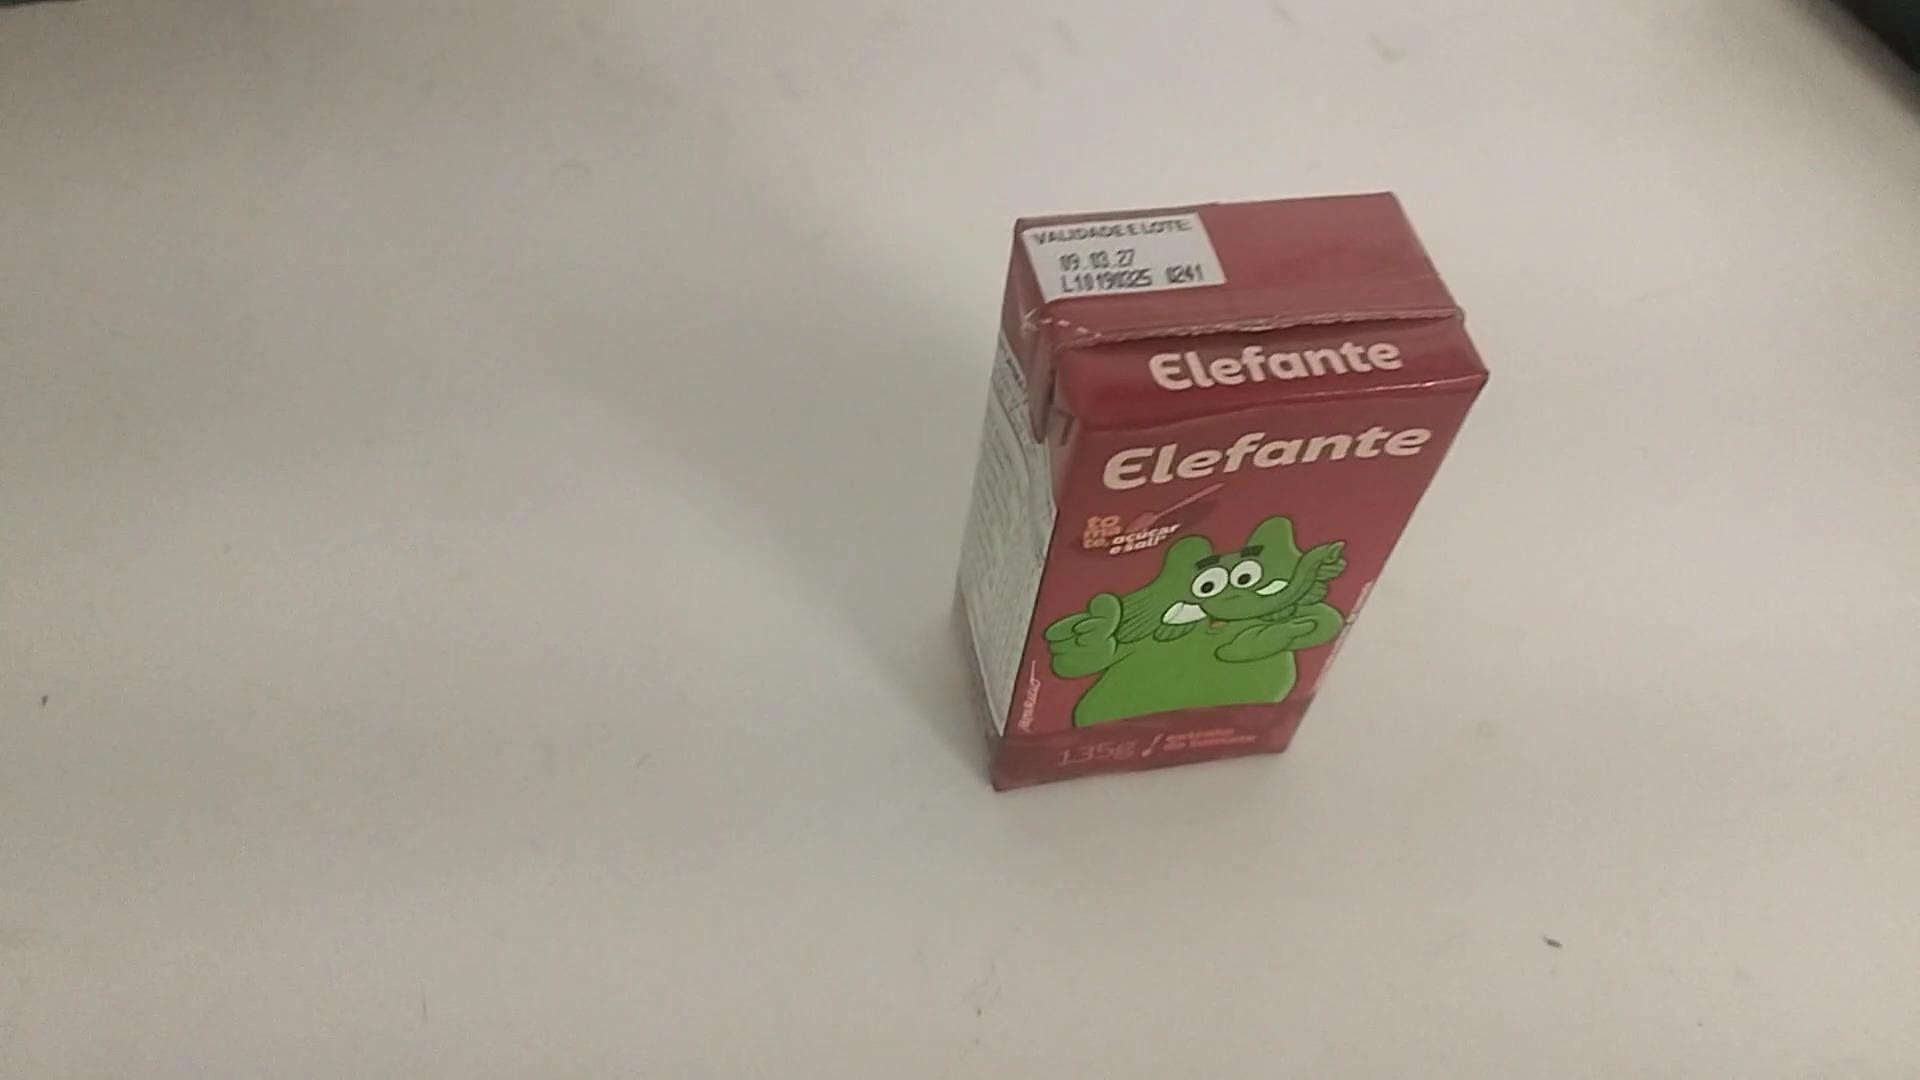tomate: (952, 178, 1511, 799)
